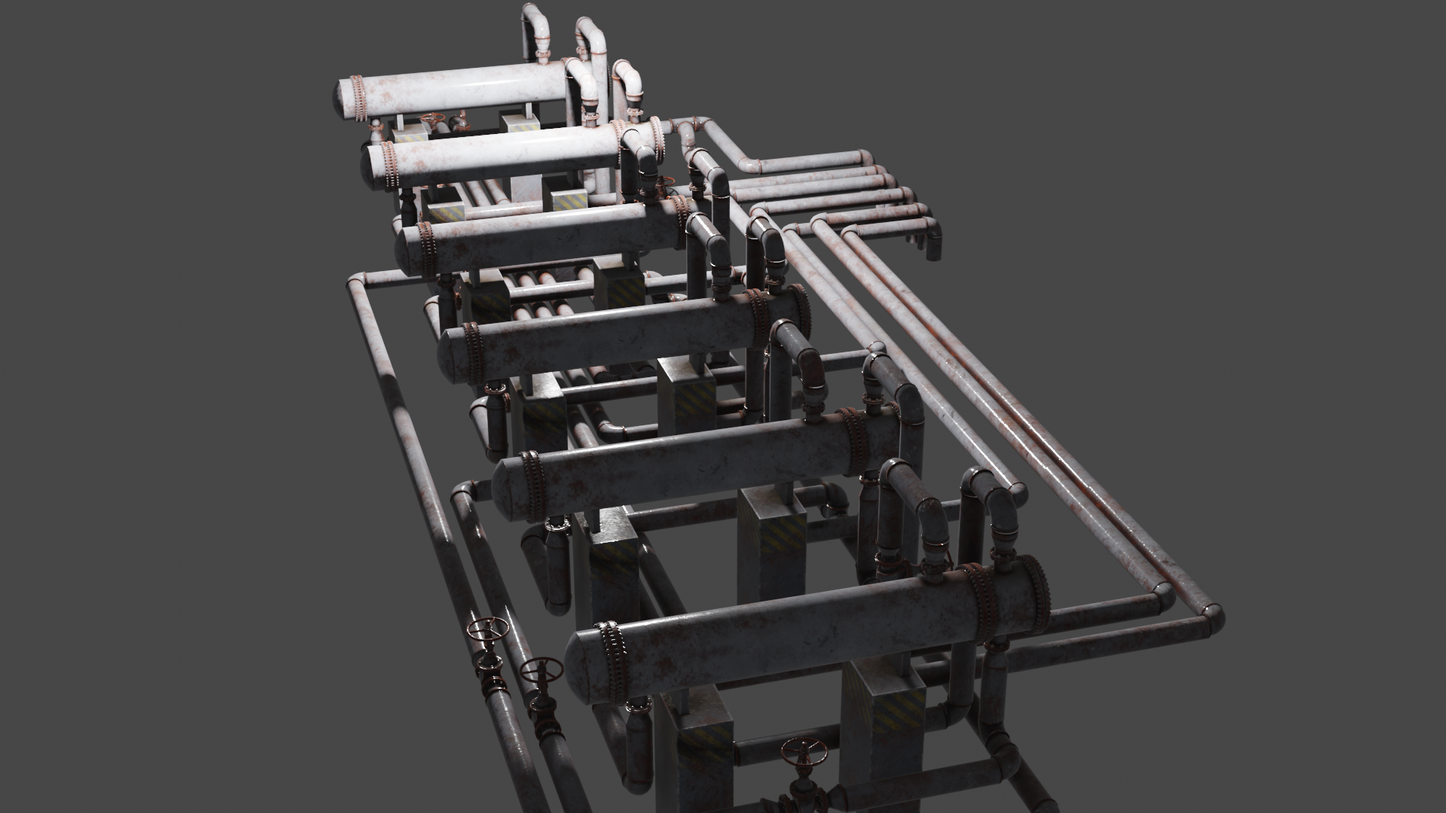HE_1: (567, 549, 1054, 712)
HE_2: (489, 403, 898, 529)
HE_3: (429, 279, 814, 383)
HE_4: (388, 188, 701, 277)
HE_5: (359, 113, 670, 192)
HE_6: (326, 58, 570, 121)
